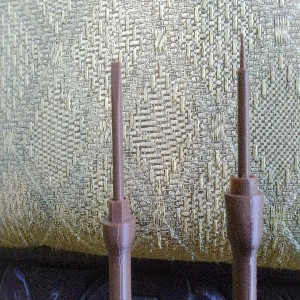obeng: (102, 60, 137, 300)
solder: (223, 30, 264, 300)
